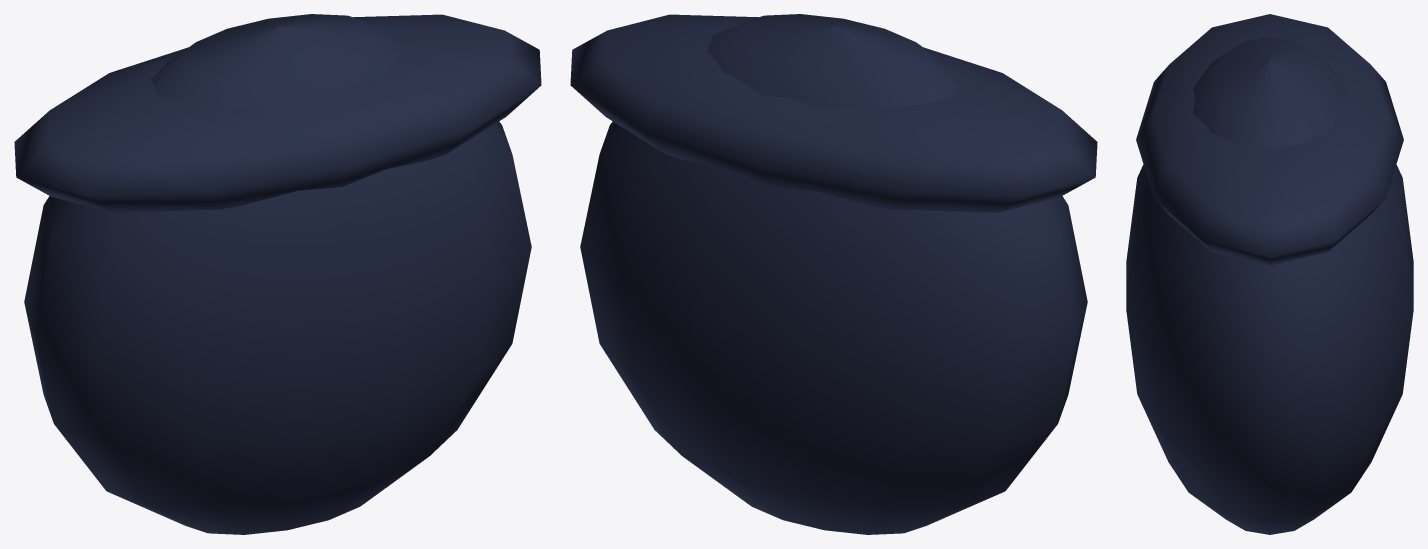
File: chest.obj
3 renders of one model, left to right at view 1: azimuth 30°, elevation 25°; view 2: azimuth 150°, elevation 25°; view 3: azimuth 270°, elevation 25°, orthographic. The views are drawn at different scales.
Parts seen in each view (by area): view 1: chest; view 2: chest; view 3: chest.
Part boxes in pixels (bbox=[...]): chest: bbox=[14, 14, 541, 534]; chest: bbox=[570, 14, 1097, 534]; chest: bbox=[1126, 14, 1413, 534].
Bounding box in the file's own units: 0.4681 × 0.4229 × 0.2449.
